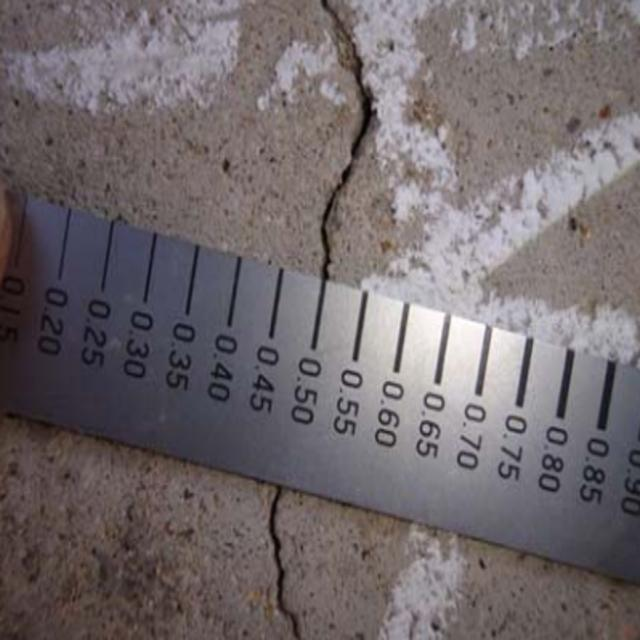crack: (234, 11, 383, 640)
